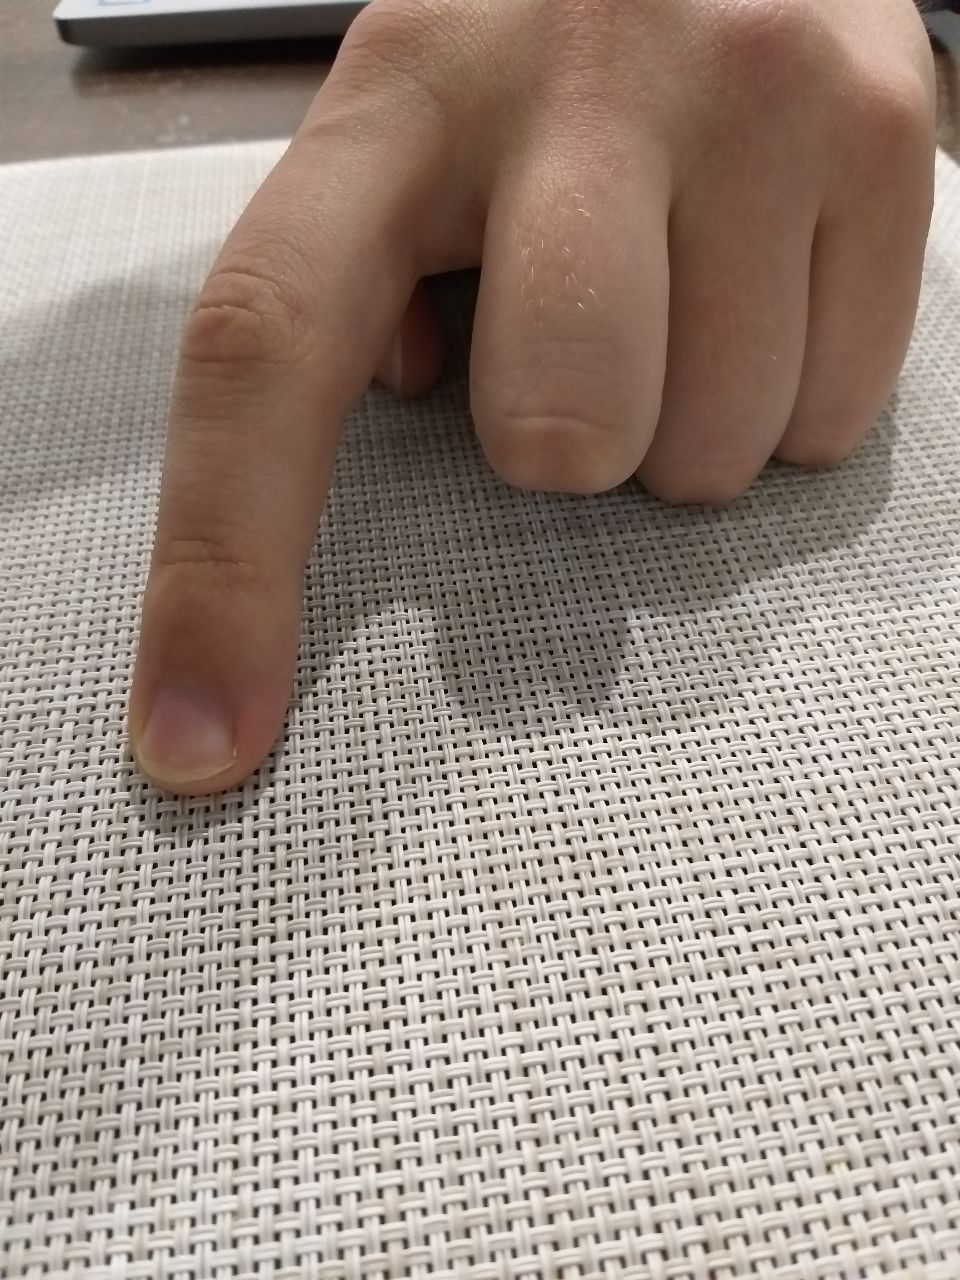finger: (134, 625, 267, 796)
